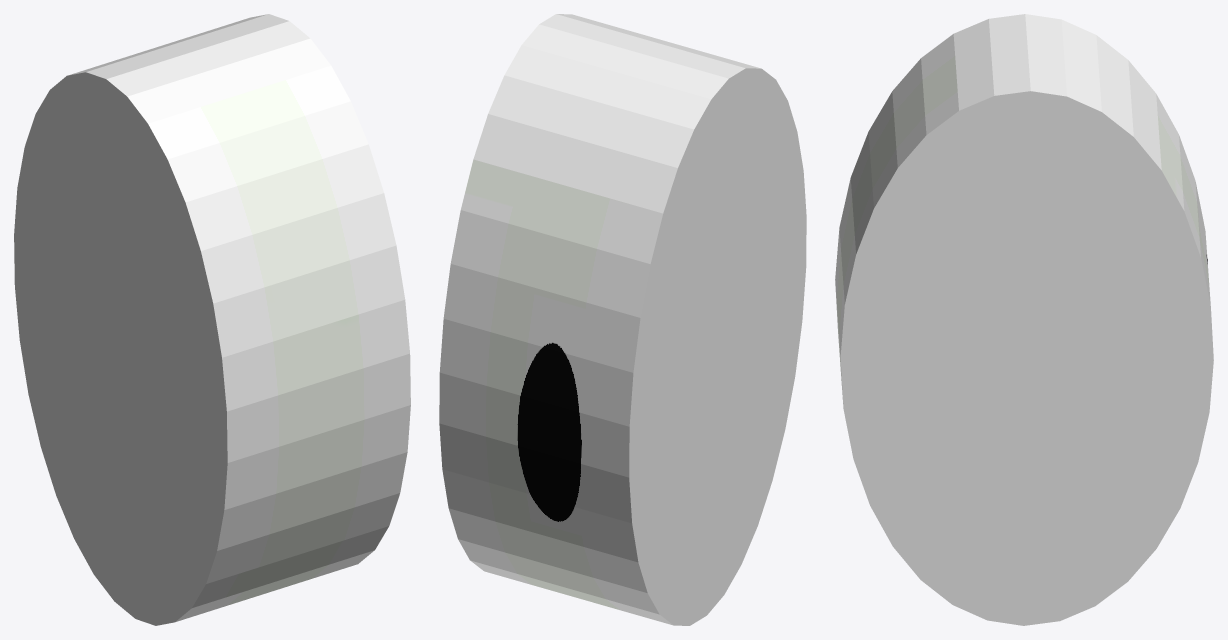
Rendered from OjoGusano.dae.
3 views of the same model, side by side, from view 1: azimuth 30°, elevation 25°; view 2: azimuth 150°, elevation 25°; view 3: azimuth 270°, elevation 25° (orthographic). The views are drawn at different scales.
Visible parts, largest first — view 1: Cylinder; view 2: Cylinder; view 3: Cylinder.
Boxes of the visible parts, x1,y1,x2,y2 form: Cylinder: (14, 14, 410, 625); Cylinder: (439, 14, 806, 625); Cylinder: (835, 14, 1213, 625).
Size of the model in its own units: 0.2928 by 0.459 by 0.7131.
Materials: 1 (1 with a texture image).
